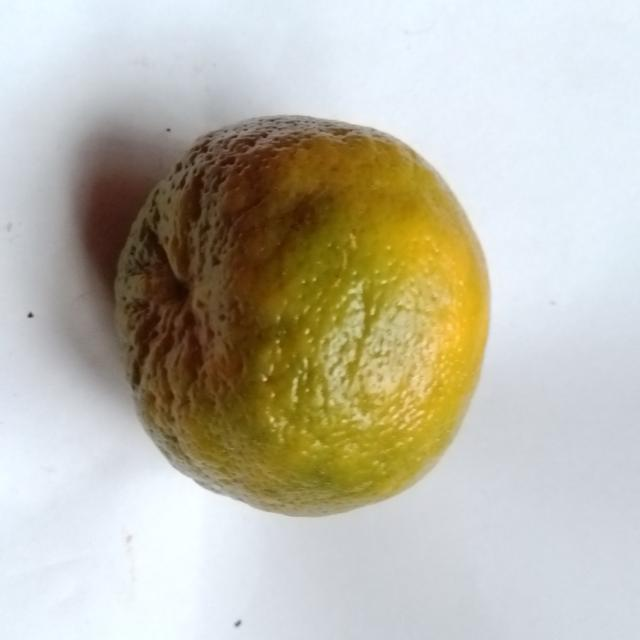orange: (116, 117, 488, 515)
